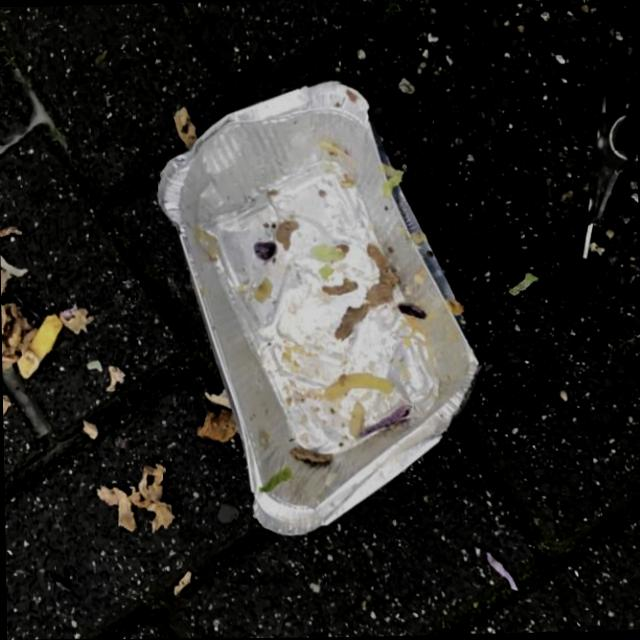Plastic: (151, 72, 489, 544)
